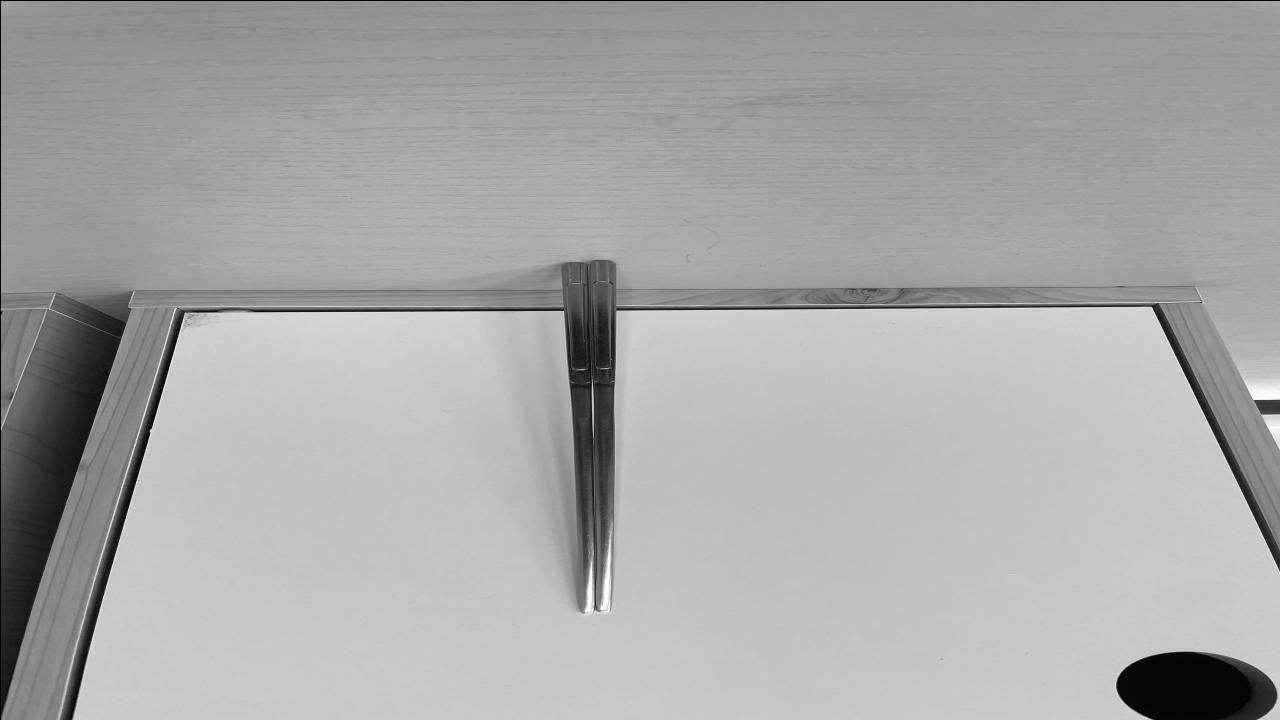chopstick: (562, 259, 620, 613)
